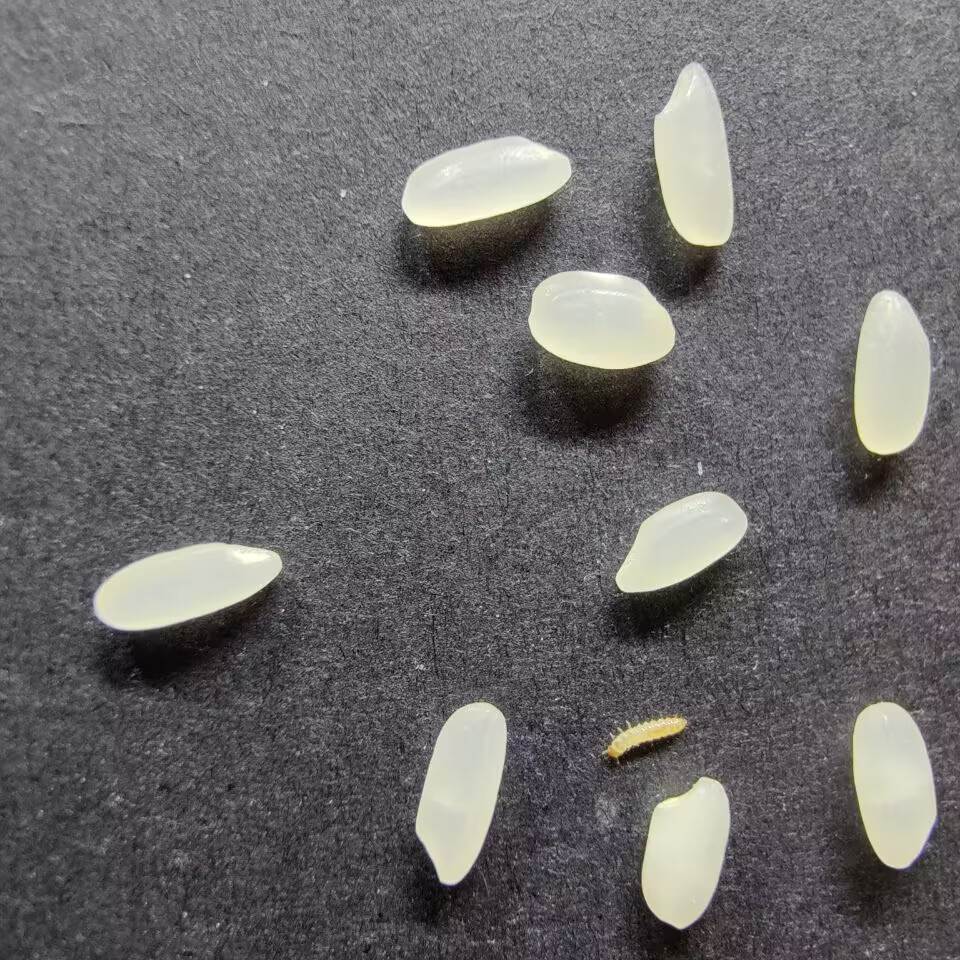others: (596, 712, 692, 767)
rice: (410, 701, 509, 886), (92, 541, 284, 633), (398, 132, 572, 227), (651, 60, 736, 247), (849, 700, 938, 870), (526, 269, 675, 369), (613, 489, 750, 594), (641, 776, 732, 931), (851, 289, 933, 455)
